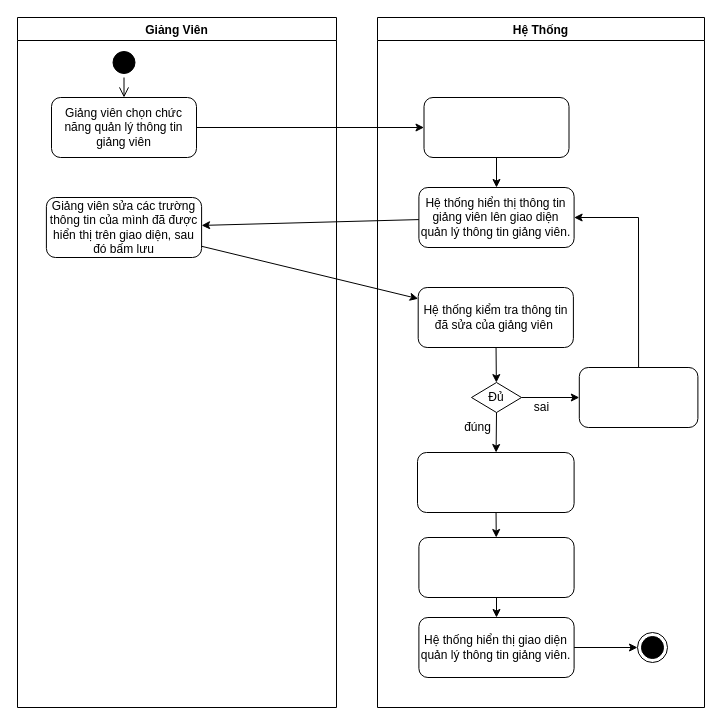
The diagram is 722 pixels wide and 725 high, and some of its shapes have lost their labels. The centre of each missing label's shape, as x and y in pixels:
Hệ thống lưu thông tin của giảng viên lên CSDL.: the point at 495,482
Hệ thống lấy thông tin của giảng viên trên cơ sở dữ liệu.: the point at 496,127
Hệ thống thông báo sửa thành công.: the point at 496,567
Hệ thống thông báo đã nhập thiếu thông tin bắt buộc: the point at 638,397
